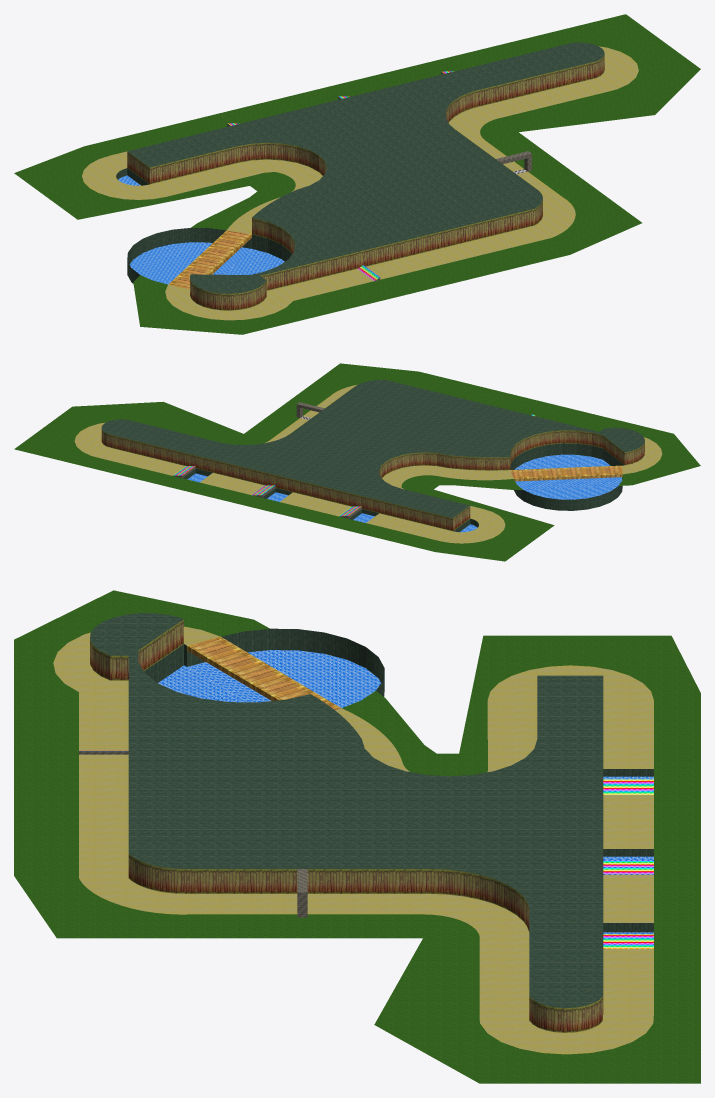
The picture shows the model from 3 angles, top to bottom: view 1: azimuth 30°, elevation 25°; view 2: azimuth 150°, elevation 25°; view 3: azimuth 270°, elevation 25°; orthographic projection. The views are drawn at different scales.
Parts seen in each view (by area): view 1: Untitled-SKP--Material2.002, Untitled-SKP--Material7.004, Untitled-SKP--Material4.003, Untitled-SKP--Material8.004, Untitled-SKP--Material1.003, Untitled-SKP--Material10.025; view 2: Untitled-SKP--Material2.002, Untitled-SKP--Material7.004, Untitled-SKP--Material8.004, Untitled-SKP--Material4.003, Untitled-SKP--Material1.003, Untitled-SKP--Material10.025, Untitled-SKP--Material3.004, Untitled-SKP--Material5.003; view 3: Untitled-SKP--Material2.002, Untitled-SKP--Material7.004, Untitled-SKP--Material4.003, Untitled-SKP--Material8.004, Untitled-SKP--Material1.003, Untitled-SKP--Material10.025, Untitled-SKP--Material5.003.
Part boxes in pixels (x1,y1,x2,y2): Untitled-SKP--Material2.002: [116, 42, 604, 293]; Untitled-SKP--Material7.004: [14, 14, 700, 334]; Untitled-SKP--Material4.003: [82, 46, 638, 320]; Untitled-SKP--Material8.004: [127, 54, 604, 310]; Untitled-SKP--Material1.003: [118, 175, 284, 284]; Untitled-SKP--Material10.025: [168, 230, 251, 289]; Untitled-SKP--Material2.002: [101, 380, 644, 532]; Untitled-SKP--Material7.004: [14, 363, 700, 561]; Untitled-SKP--Material8.004: [101, 429, 644, 531]; Untitled-SKP--Material4.003: [74, 384, 662, 543]; Untitled-SKP--Material1.003: [187, 454, 622, 532]; Untitled-SKP--Material10.025: [510, 465, 622, 481]; Untitled-SKP--Material3.004: [172, 402, 361, 518]; Untitled-SKP--Material5.003: [172, 414, 535, 516]; Untitled-SKP--Material2.002: [90, 613, 653, 1007]; Untitled-SKP--Material7.004: [14, 590, 700, 1083]; Untitled-SKP--Material4.003: [53, 626, 653, 1054]; Untitled-SKP--Material8.004: [90, 619, 603, 1032]; Untitled-SKP--Material1.003: [158, 650, 653, 934]; Untitled-SKP--Material10.025: [187, 636, 340, 710]; Untitled-SKP--Material5.003: [79, 750, 653, 948].
Size of what is drawn, in the model's own units: 74182 by 3252 by 43663.
Materials: 10 (10 with a texture image).
